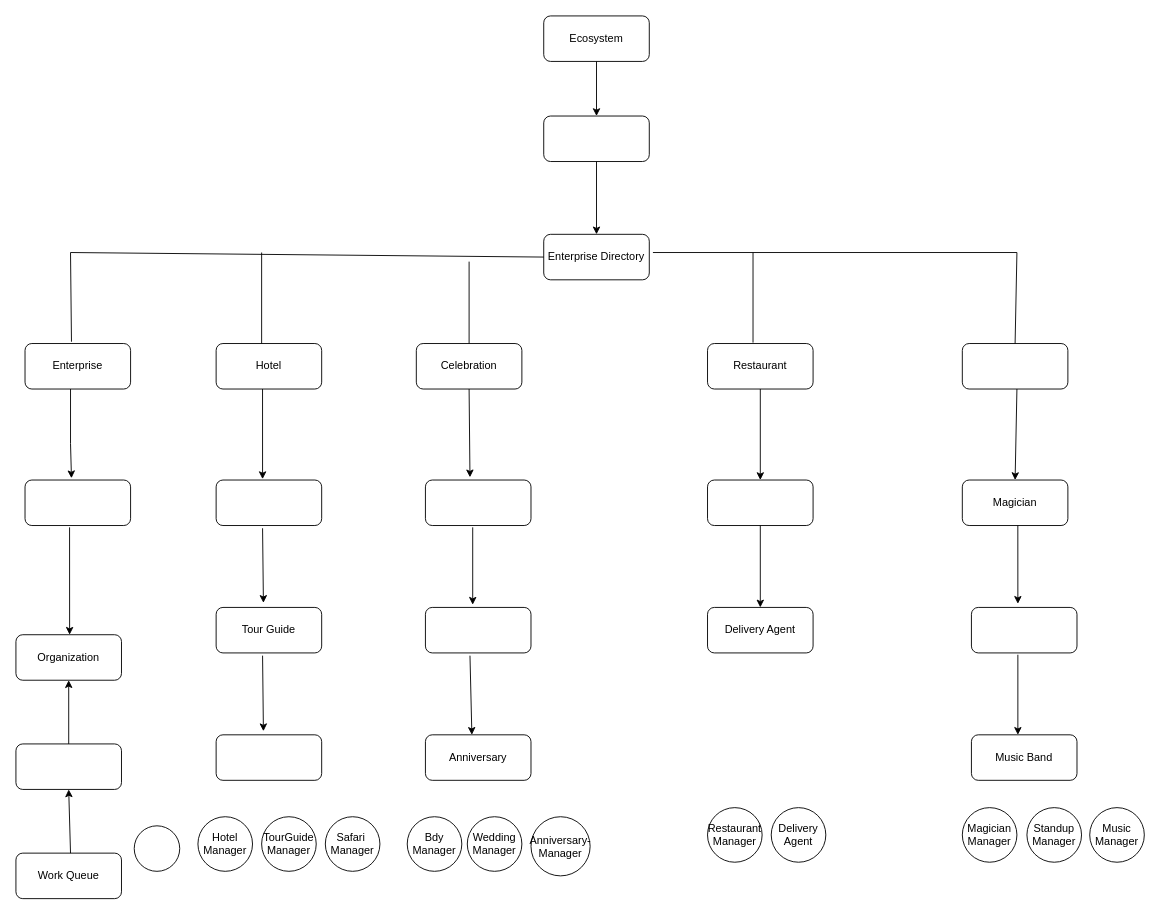
The diagram is 1160 pixels wide and 915 high, and some of its shapes have lost their labels. Here are the shapes that lost their labels. From the top down, the centre of each, then its label:
At [596,138]: "Network".
At [1014,366]: "Theatre".
At [77,502]: "Organization Directory".
At [268,502]: "Room Booking".
At [478,502]: "Birthday".
At [760,502]: "Eatery(add menu, order)".
At [478,630]: "Weddings".
At [1024,630]: "Standup Comedy".
At [68,766]: "Work Request".
At [268,757]: "Safari Services".
At [156,848]: "System Admin Role".
